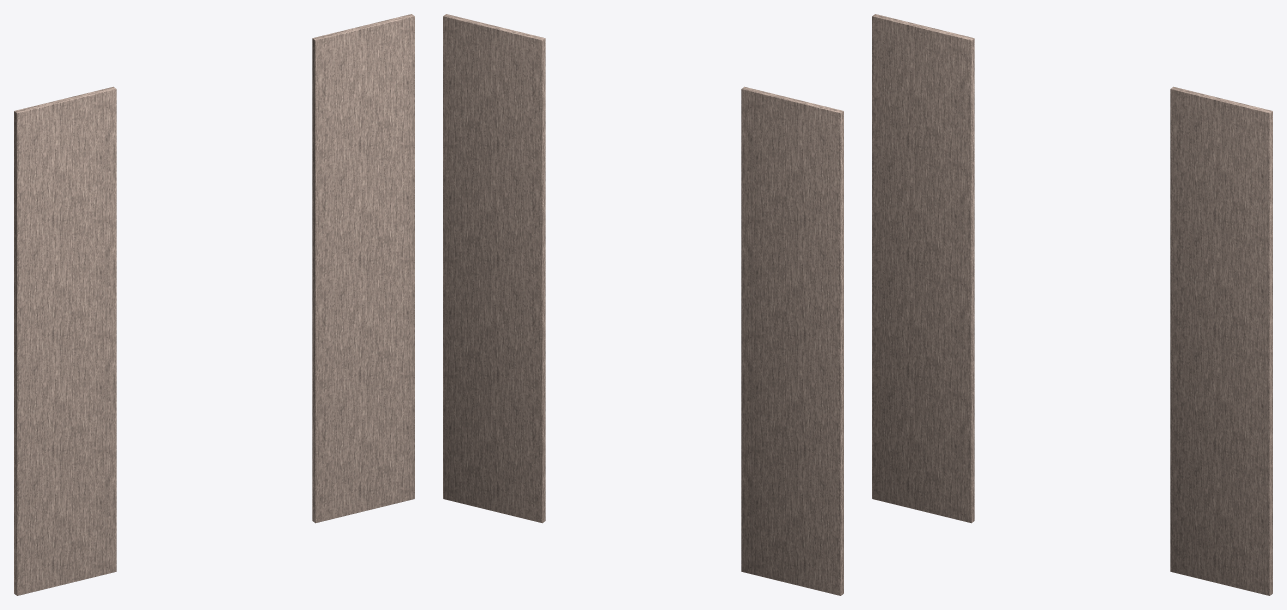
Rendered from landing_door_TM031.glb.
3 views of the same model, side by side, from view 1: azimuth 30°, elevation 25°; view 2: azimuth 150°, elevation 25°; view 3: azimuth 330°, elevation 25° (orthographic).
Visible parts, largest first — view 1: Landing_Door_L, Landing_Door_R; view 2: Landing_Door_L, Landing_Door_R; view 3: Landing_Door_L, Landing_Door_R.
Boxes of the visible parts, x1,y1,x2,y2 form: Landing_Door_L: (14, 86, 116, 595); Landing_Door_R: (312, 14, 414, 523); Landing_Door_L: (741, 86, 843, 595); Landing_Door_R: (443, 14, 545, 523); Landing_Door_L: (872, 14, 974, 523); Landing_Door_R: (1170, 86, 1272, 595).
Bounding box in the file's own units: 1.81 × 2.1 × 0.025.
1 material, 1 textured.
